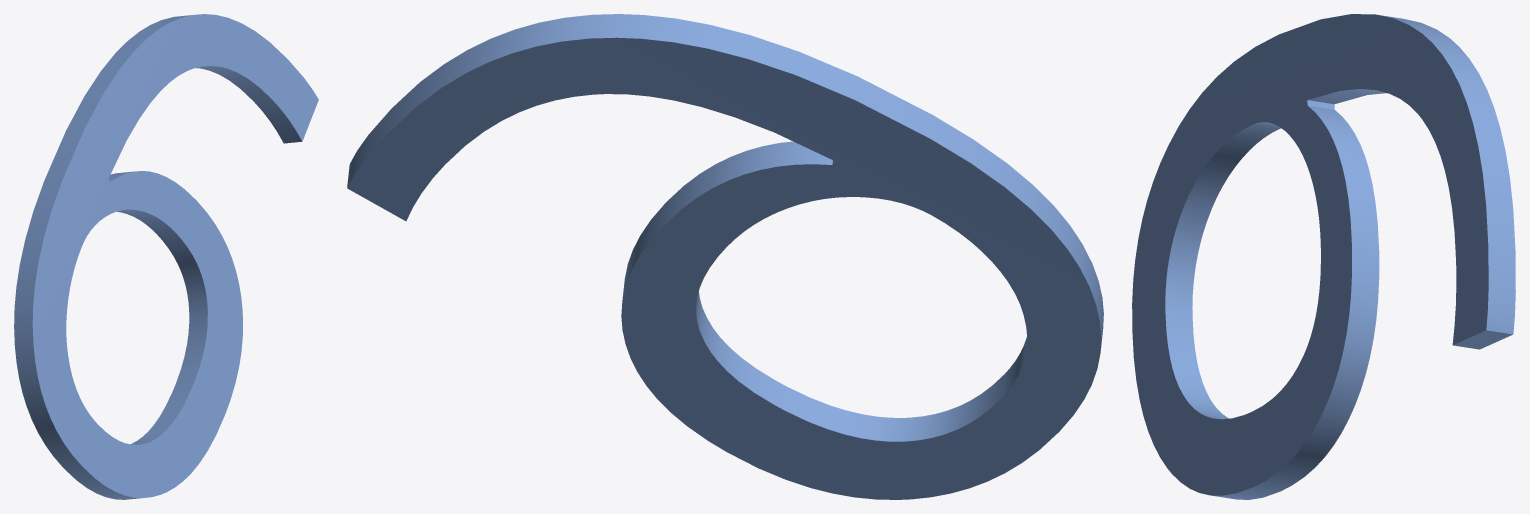
Rendered from New_Number_6.gltf.
The picture shows the model from 3 angles, left to right: view 1: azimuth 30°, elevation 25°; view 2: azimuth 150°, elevation 25°; view 3: azimuth 270°, elevation 25°; orthographic projection. The views are drawn at different scales.
Visible parts, largest first — view 1: Part 6; view 2: Part 6; view 3: Part 6.
Part boxes in pixels (x1=…): Part 6: x1=14, y1=14, x2=318, y2=499; Part 6: x1=347, y1=14, x2=1103, y2=499; Part 6: x1=1132, y1=14, x2=1515, y2=499.
Bounding box in the file's own units: 0.00507 × 0.00445 × 0.00306.
